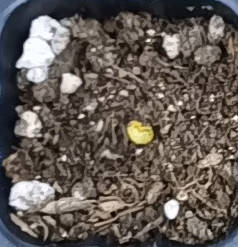pepper seed: (48, 47, 204, 192)
